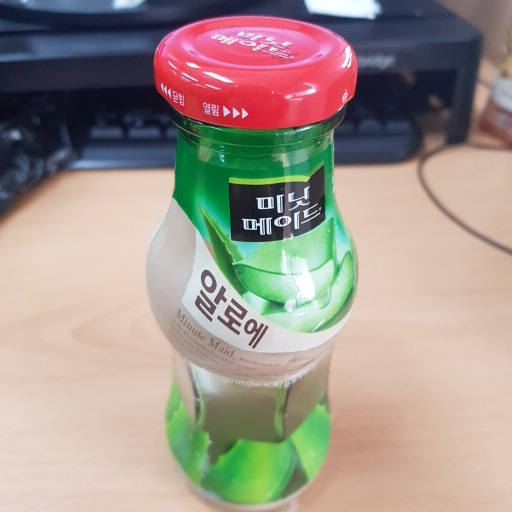Glass_4: (140, 13, 367, 512)
